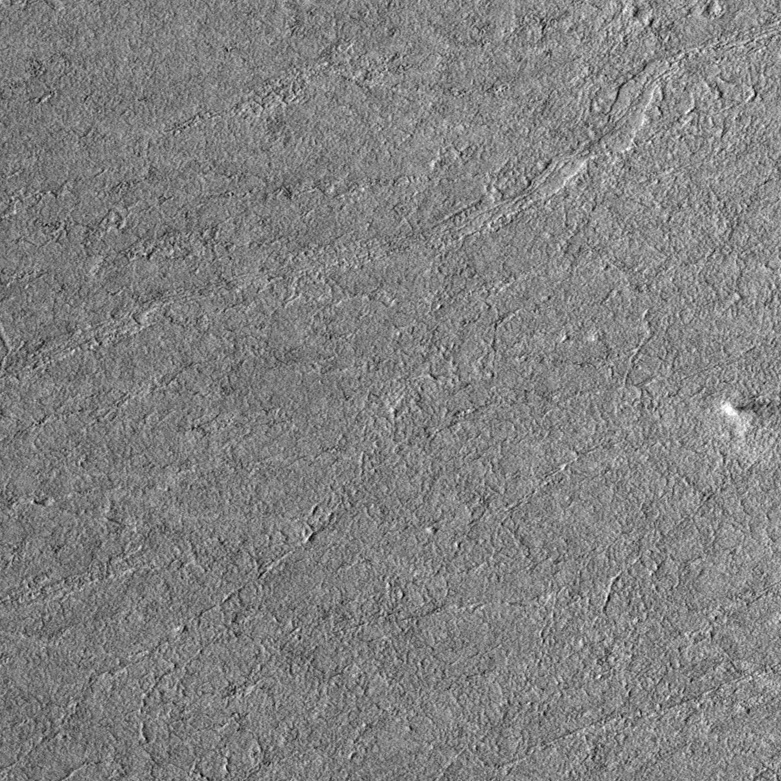dust_devil: (719, 396, 778, 419)
